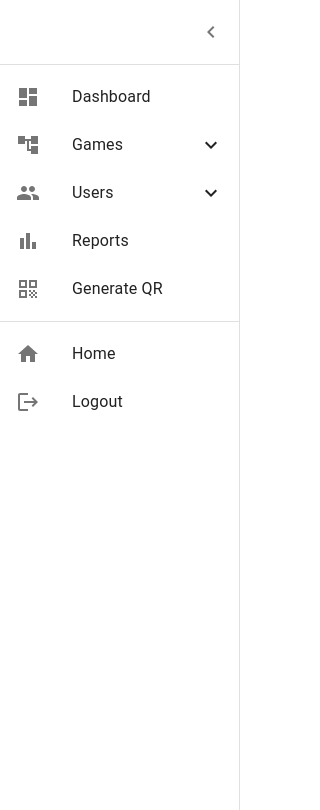
Test: <SideMenu /> › Game Management Button › should reveal 3 new buttons when clicked as an admin
Click the button with test id "game-manage-item".
click(120, 145)  # box [16,133,223,157]
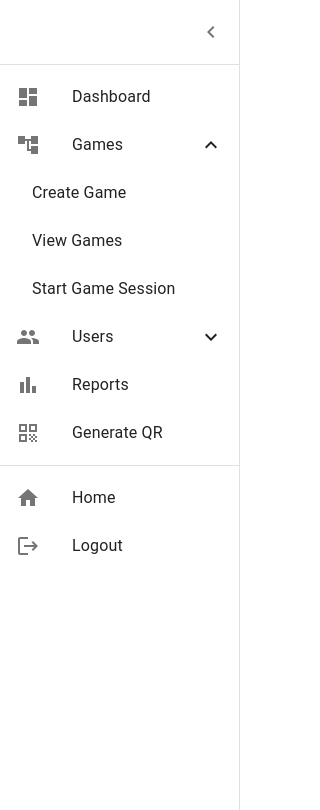
Now the link with test id "game-develop-item" is enabled, box [32,183,126,202]
Now the link with test id "game-view-item" is enabled, box [32,231,122,250]
